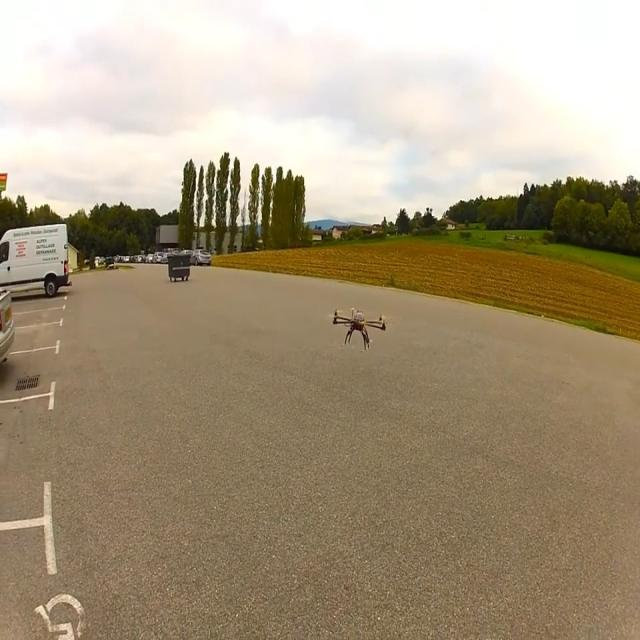drone: (332, 306, 386, 351)
